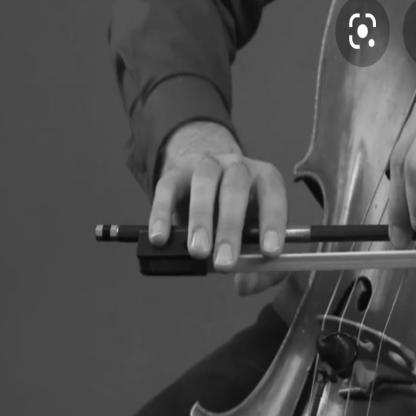good: (138, 113, 310, 307)
